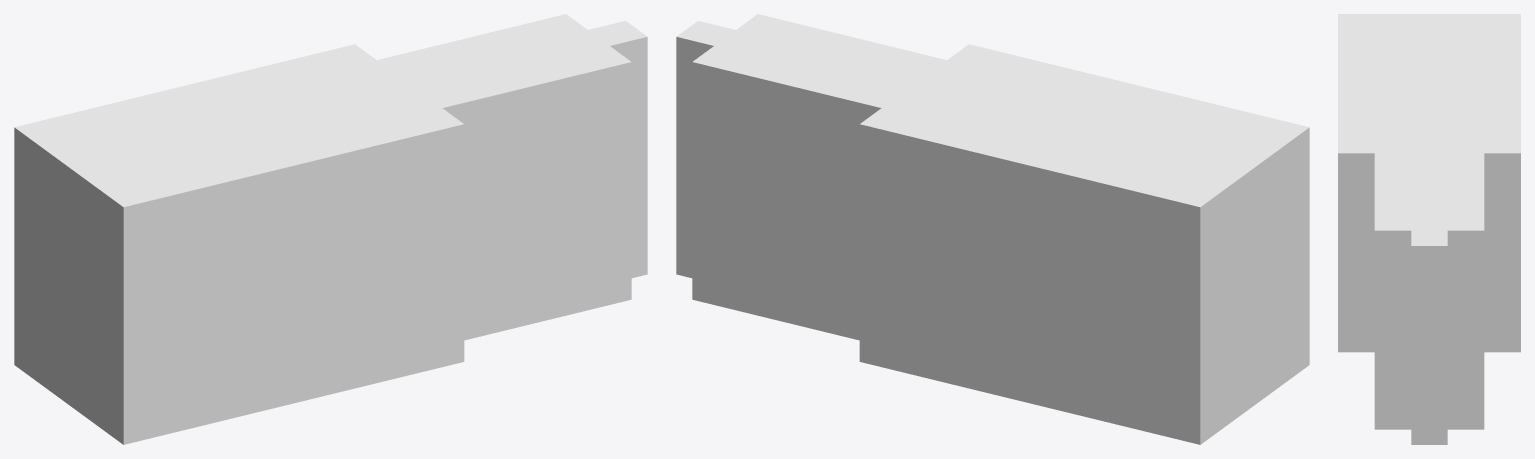
Rendered from arm-lower-l.obj.
3 renders of one model, left to right at view 1: azimuth 30°, elevation 25°; view 2: azimuth 150°, elevation 25°; view 3: azimuth 270°, elevation 25°, orthographic. The views are drawn at different scales.
Size of the model in its own units: 15 by 6 by 5.
1 material, 1 textured.
